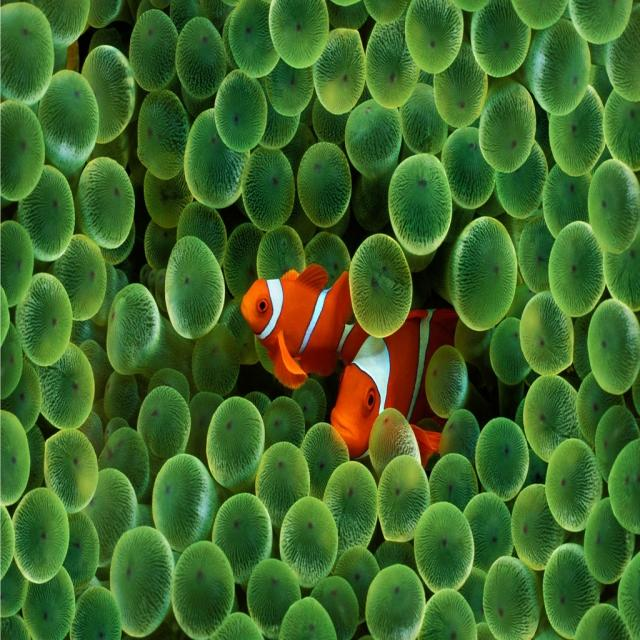Fish: (319, 304, 462, 442), (234, 251, 370, 394)
